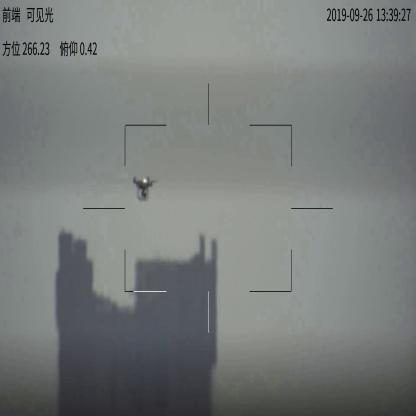uav: (130, 176, 156, 202)
